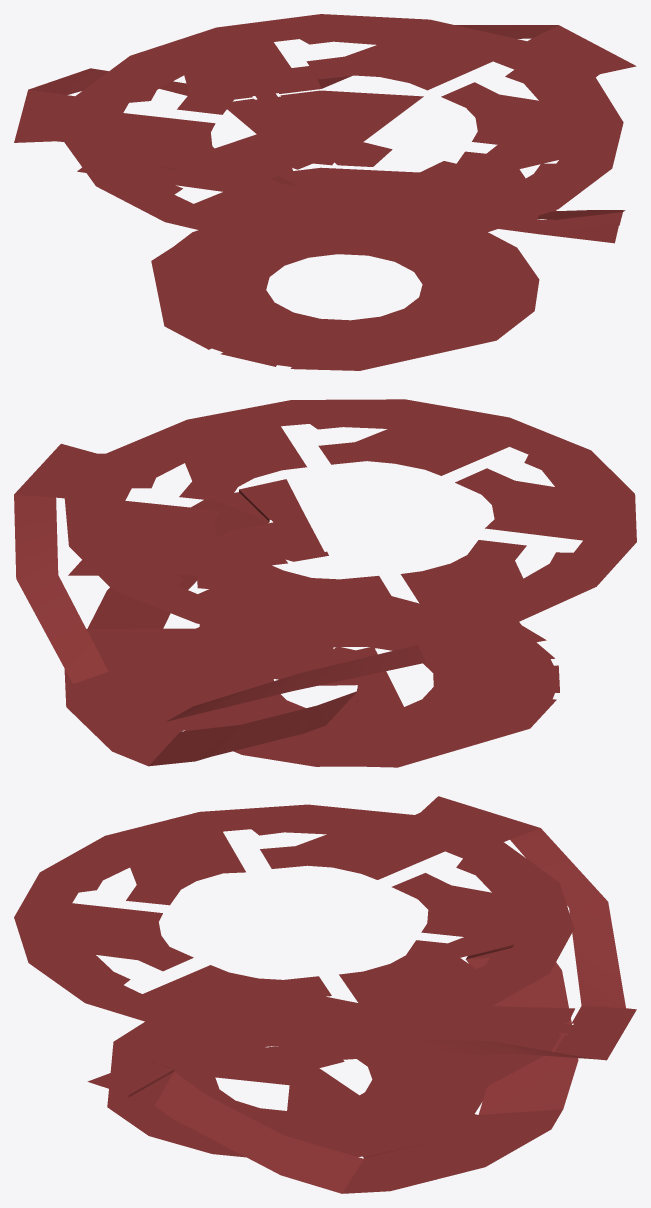
The model's file is col_forge.max.fbx.
The picture shows the model from 3 angles, top to bottom: view 1: azimuth 30°, elevation 25°; view 2: azimuth 150°, elevation 25°; view 3: azimuth 270°, elevation 25°; orthographic projection. The views are drawn at different scales.
Visible parts, largest first — view 1: col1, col3, col2, col4, col5; view 2: col1, col3, col2, col4, col5; view 3: col1, col3, col2, col5, col4.
Boxes of the visible parts, <box> form: col1: <box>14,14,636,250</box>; col3: <box>151,167,556,370</box>; col2: <box>77,66,622,243</box>; col4: <box>29,25,558,95</box>; col5: <box>160,166,625,219</box>; col1: <box>14,399,636,662</box>; col3: <box>64,596,559,767</box>; col2: <box>65,479,411,725</box>; col4: <box>14,494,426,721</box>; col5: <box>87,499,356,766</box>; col1: <box>14,796,574,1063</box>; col3: <box>107,996,562,1193</box>; col2: <box>87,937,636,1118</box>; col5: <box>154,957,578,1193</box>; col4: <box>393,828,625,1059</box>.
Size of the model in its own units: 45.04 by 12.21 by 44.32.
